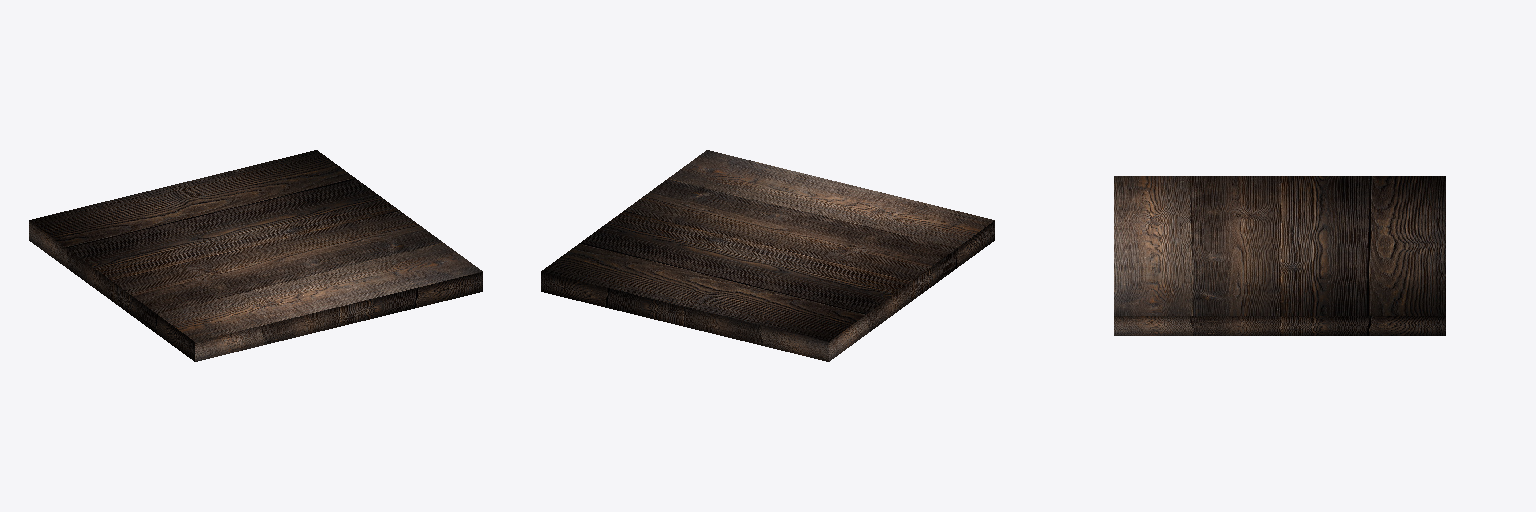
The picture shows the model from 3 angles: view 1: azimuth 30°, elevation 25°; view 2: azimuth 150°, elevation 25°; view 3: azimuth 270°, elevation 25°; orthographic projection.
Visible parts, largest first — view 1: Cube.001; view 2: Cube.001; view 3: Cube.001.
Part boxes in pixels (x1,y1,x2,y2): Cube.001: (29,150,482,361); Cube.001: (541,150,994,361); Cube.001: (1114,176,1445,335).
Size of the model in its own units: 30 by 2 by 30.
1 materials, 1 textured.